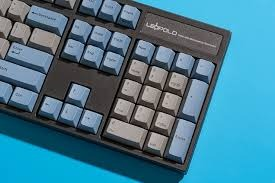keyboard: (0, 0, 233, 183)
